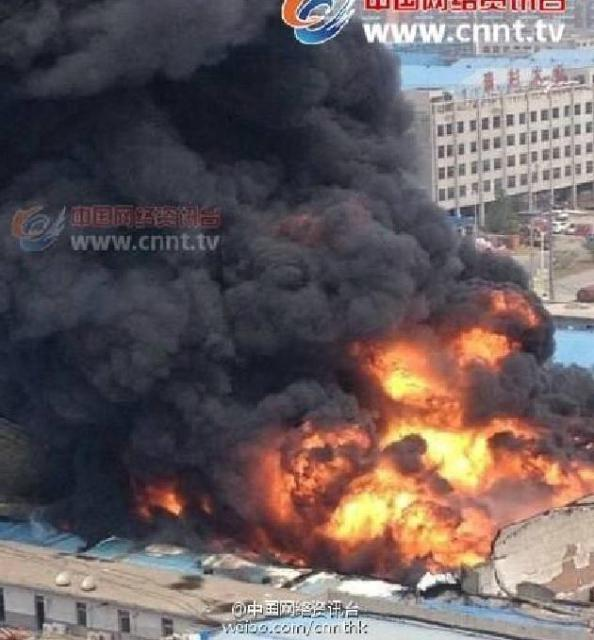fire: (413, 424, 486, 486), (398, 513, 481, 561), (373, 346, 440, 400), (329, 491, 388, 541), (357, 463, 414, 511), (454, 324, 506, 366), (540, 462, 591, 501), (135, 482, 180, 512)
